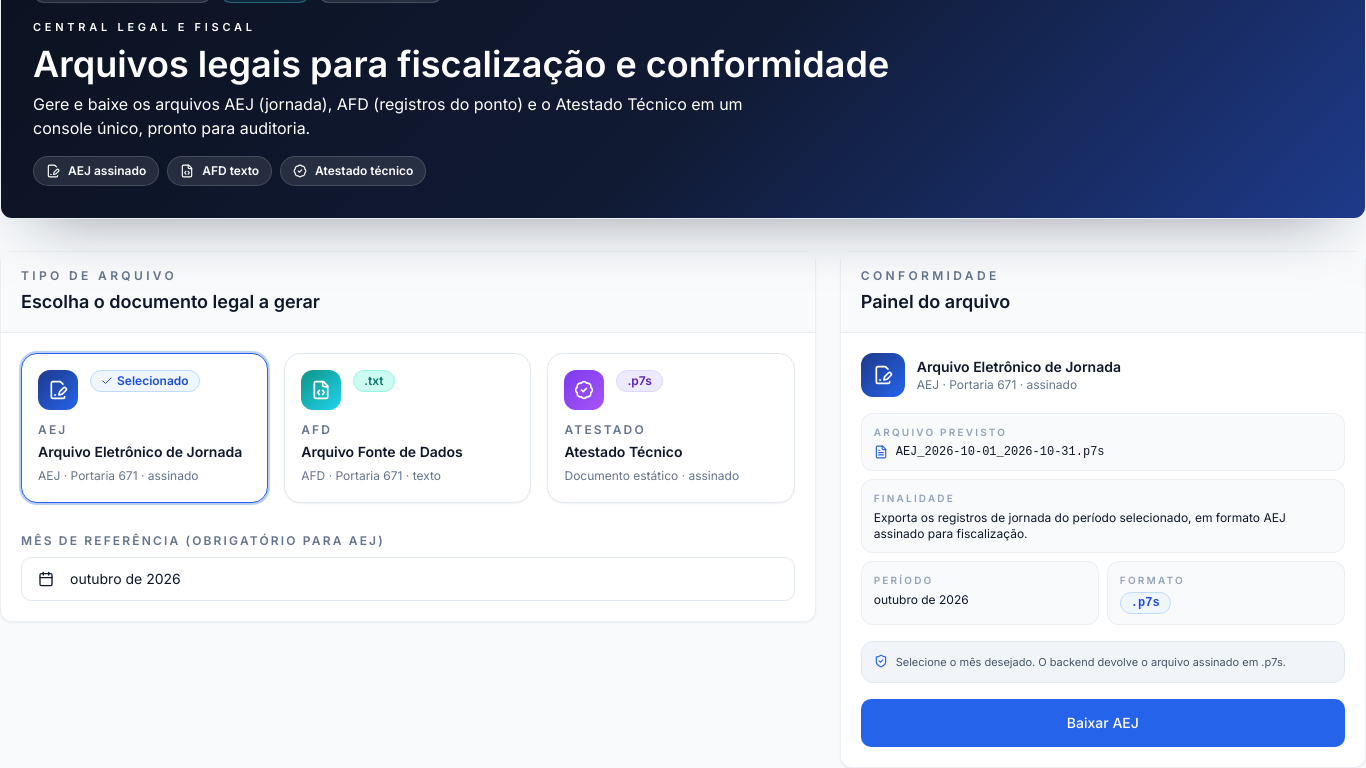
Test: AuditoriaFiscal › desabilita o botão durante o download e bloqueia duplo clique
(page scrolled)
Click the button "Baixar AEJ".
click(1103, 722)  # box [861, 698, 1345, 746]
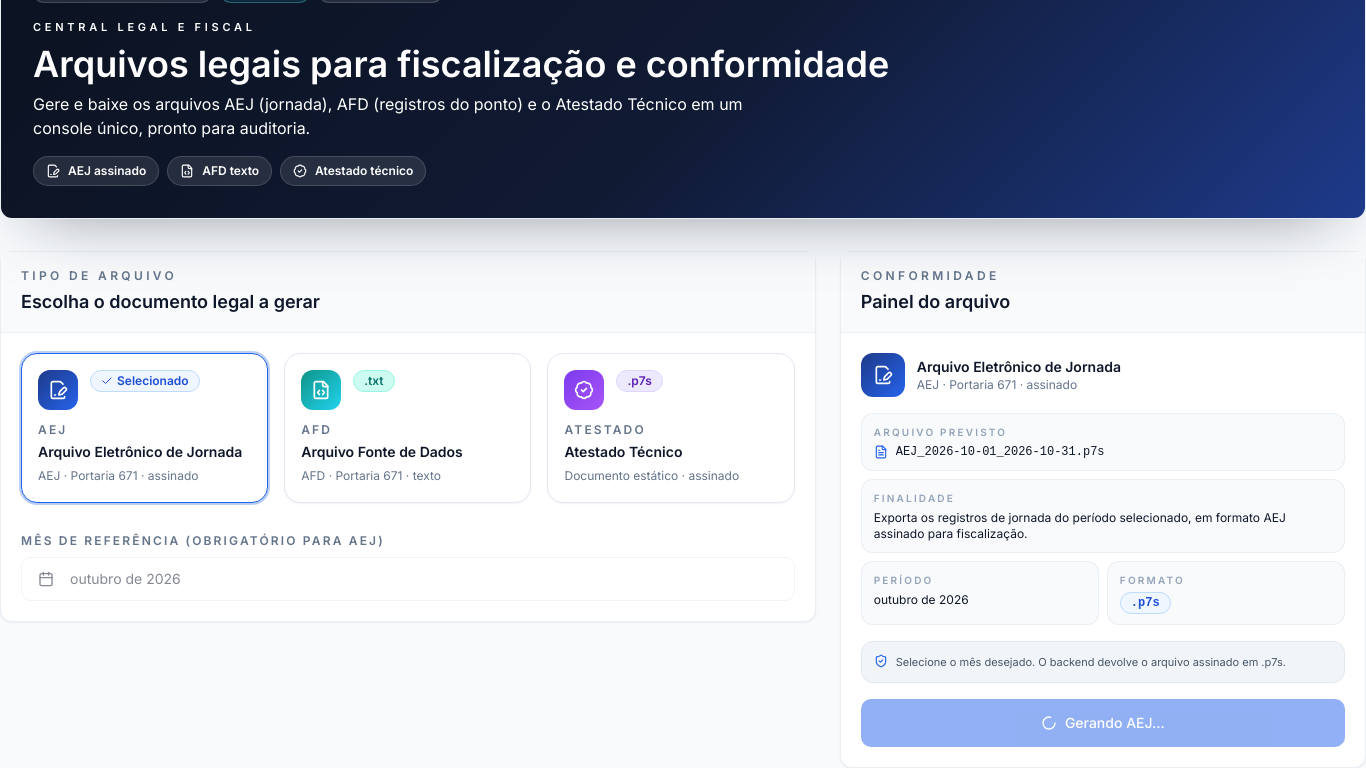
Check: the button "Gerando AEJ..." is disabled
Click the button "Gerando AEJ...".
click(1103, 722)  # box [861, 698, 1345, 746]
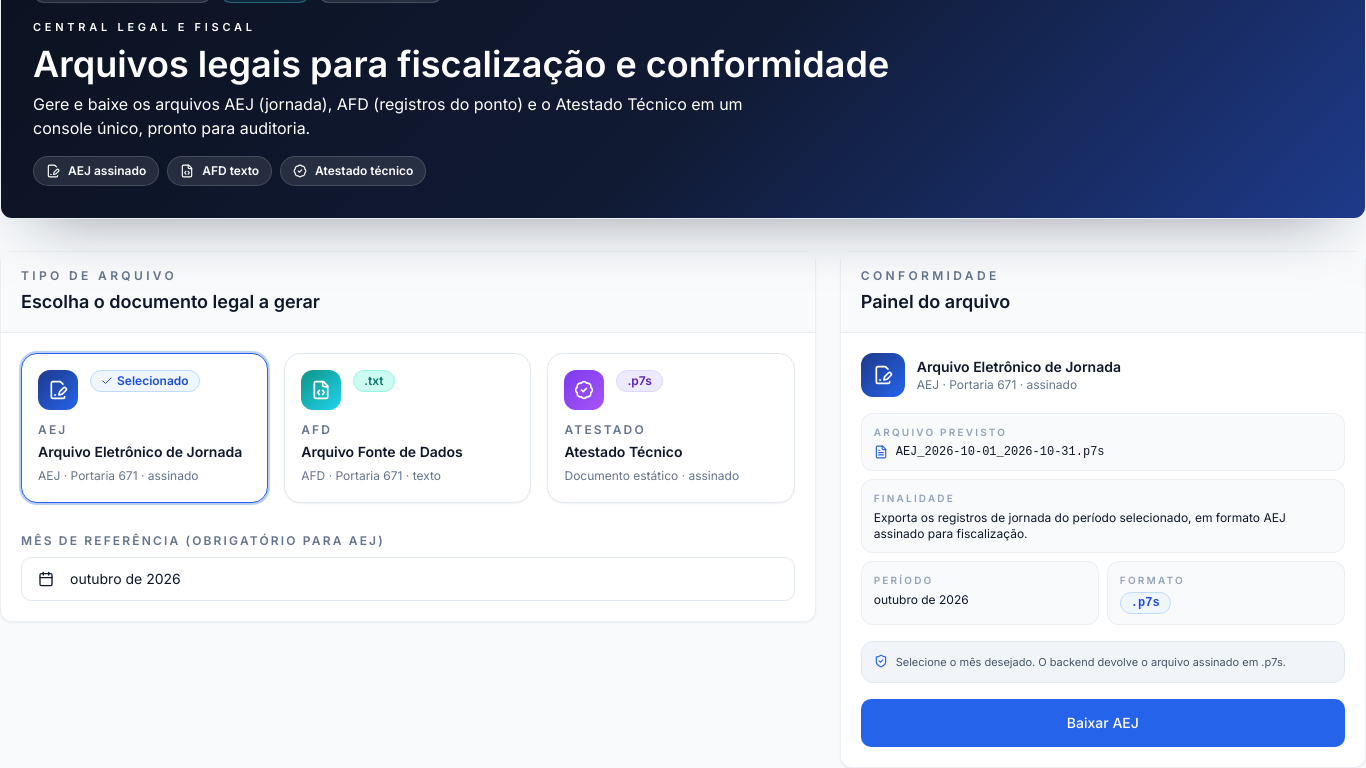
Check: the button "Baixar AEJ" is enabled, box [861, 698, 1345, 746]
